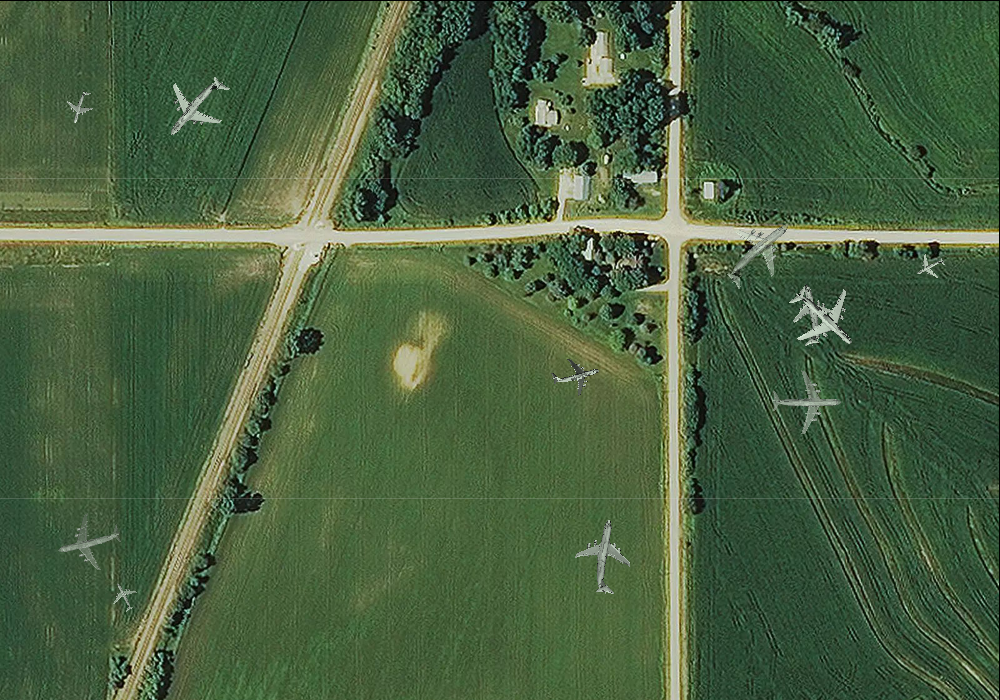plane: (705, 200, 813, 306), (772, 266, 875, 369), (146, 56, 246, 158), (567, 514, 645, 599), (50, 504, 127, 579), (777, 279, 842, 350), (771, 369, 841, 434), (546, 347, 604, 403), (103, 577, 143, 617), (910, 247, 950, 287), (60, 86, 99, 127)
